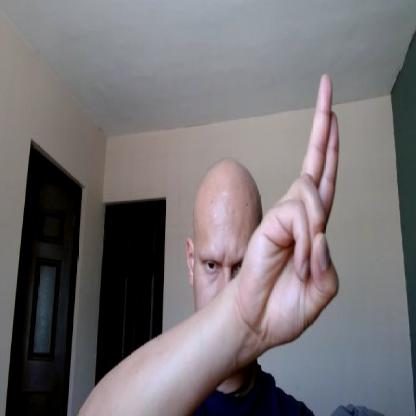U: (244, 71, 342, 340)
